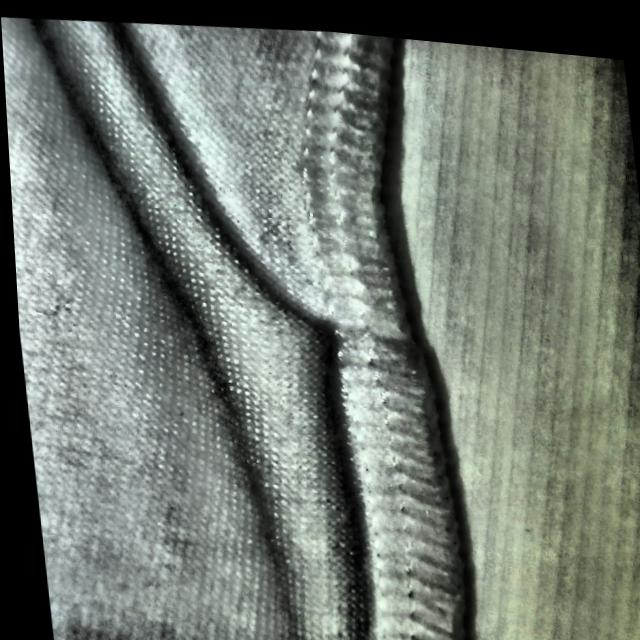seam: (193, 221, 443, 465)
